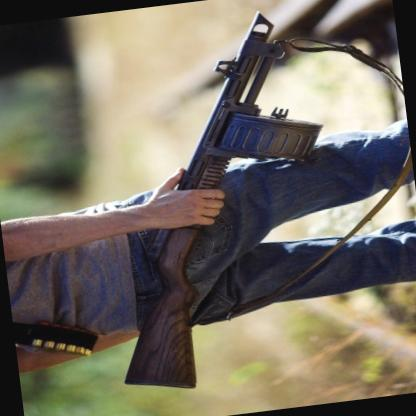rifle: (77, 1, 366, 394)
